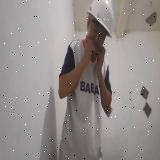Helmet: (86, 0, 115, 40)
